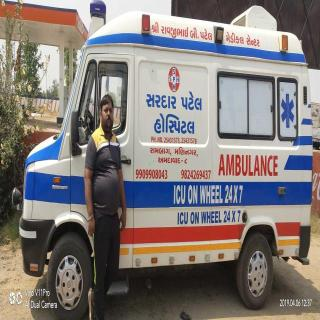Ambulance: (5, 8, 313, 306)
